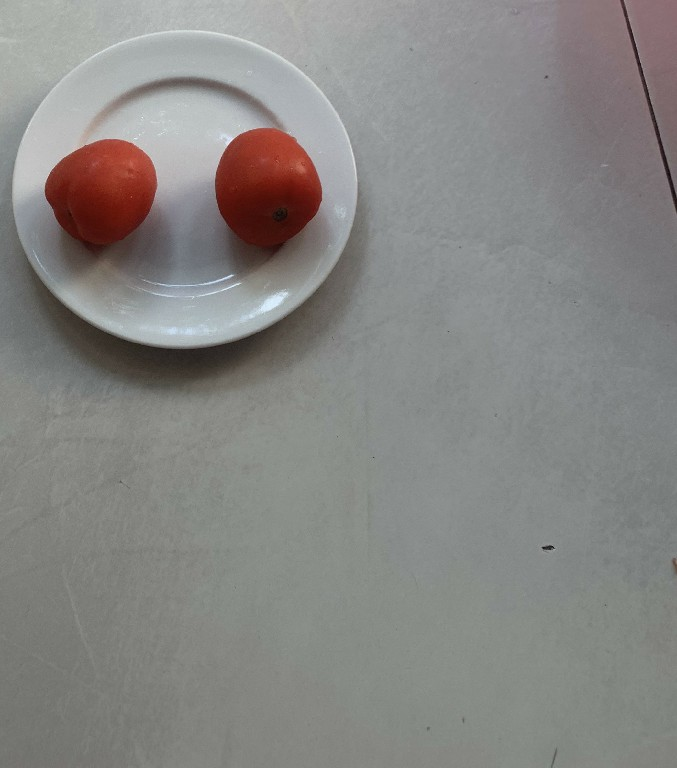OK: (212, 124, 326, 257), (44, 132, 157, 249)
